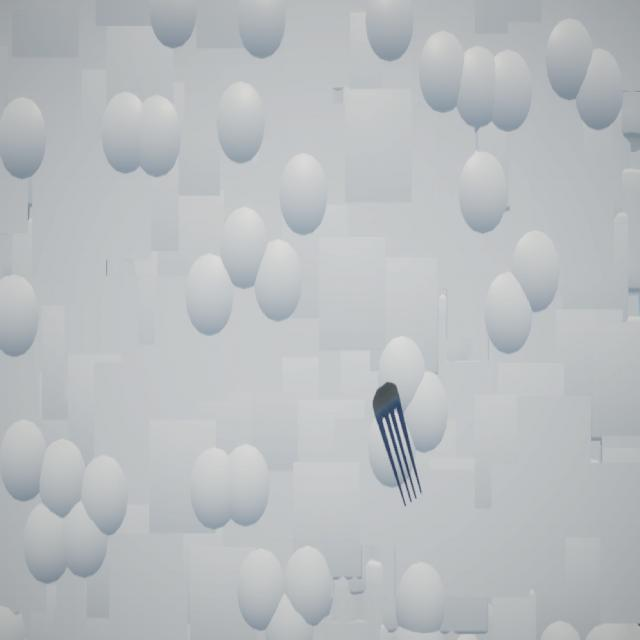top_folk: (374, 382, 424, 508)
